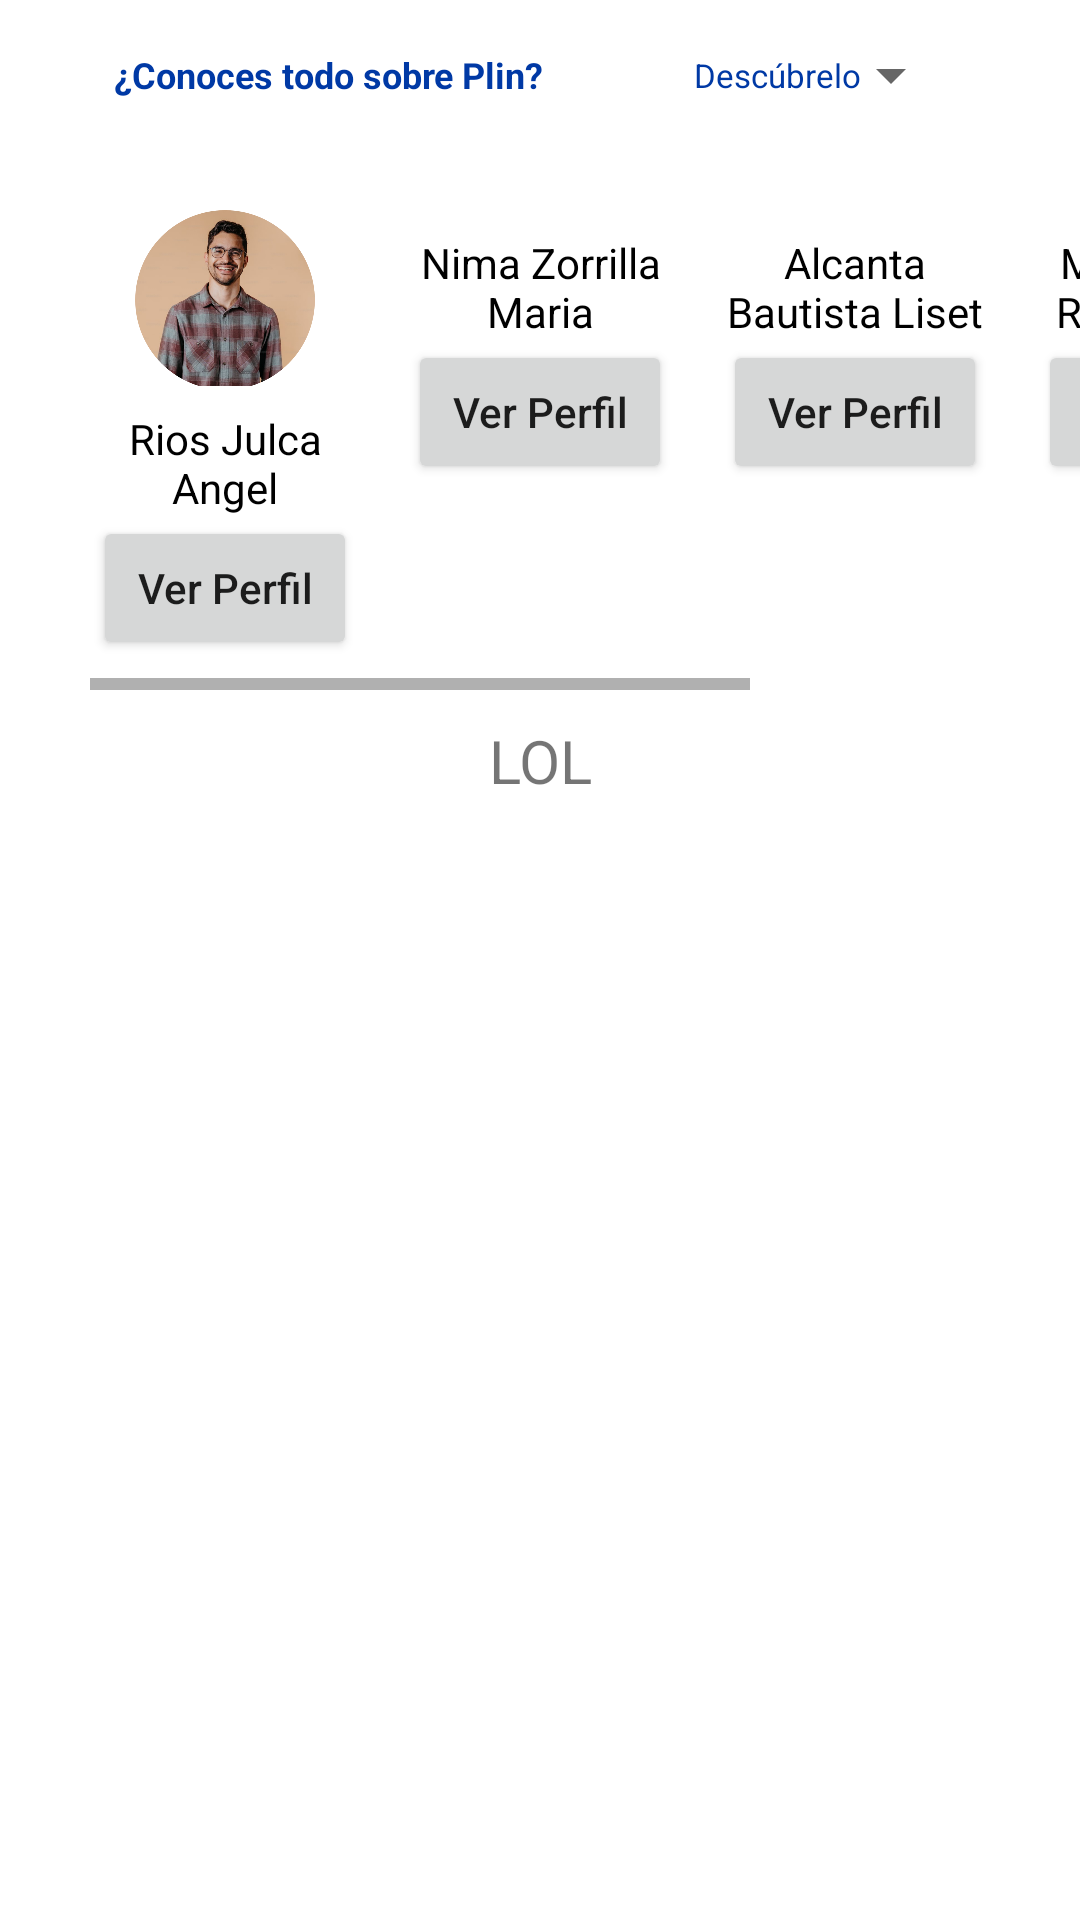

Locate icon controls on the screen. Image size 1080*1920, boxes as (x1, y1, x2, y2).
perfil cliente: (135, 210, 315, 386)
